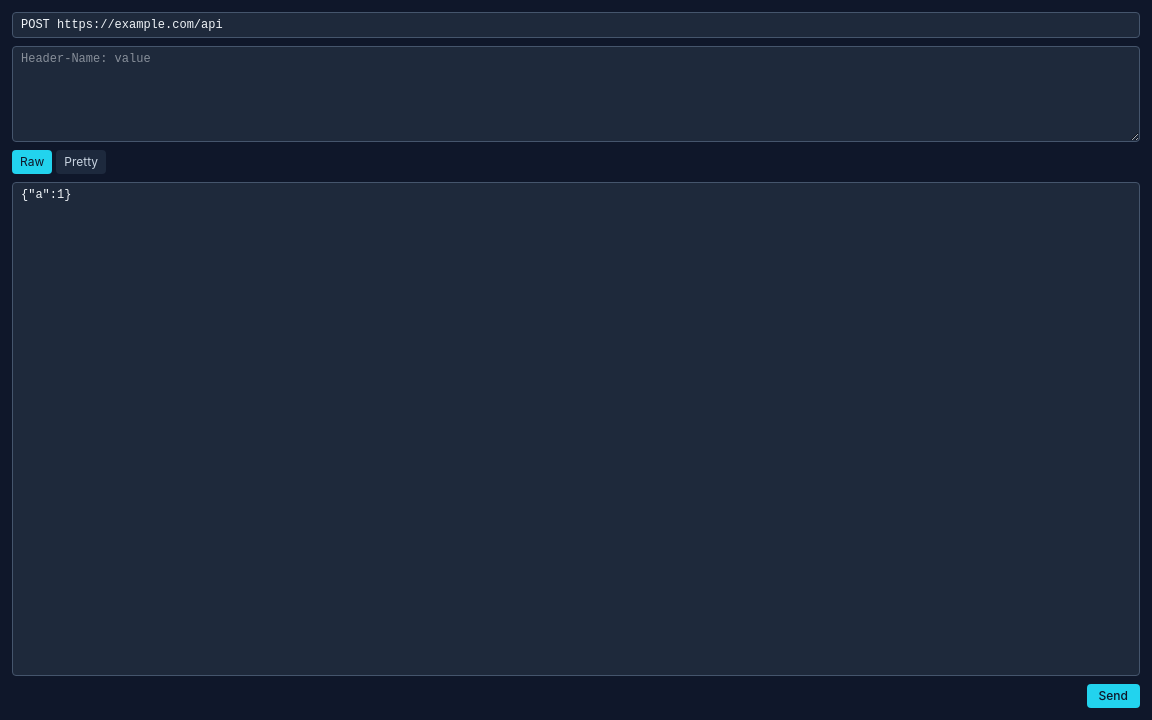
Scenario: ReplayRequestEditor › switching to the Pretty tab with a JSON body renders the JsonTreeView
Click the button with test id "replay-request-editor-tab-pretty": (81, 162) [56,150,106,174]
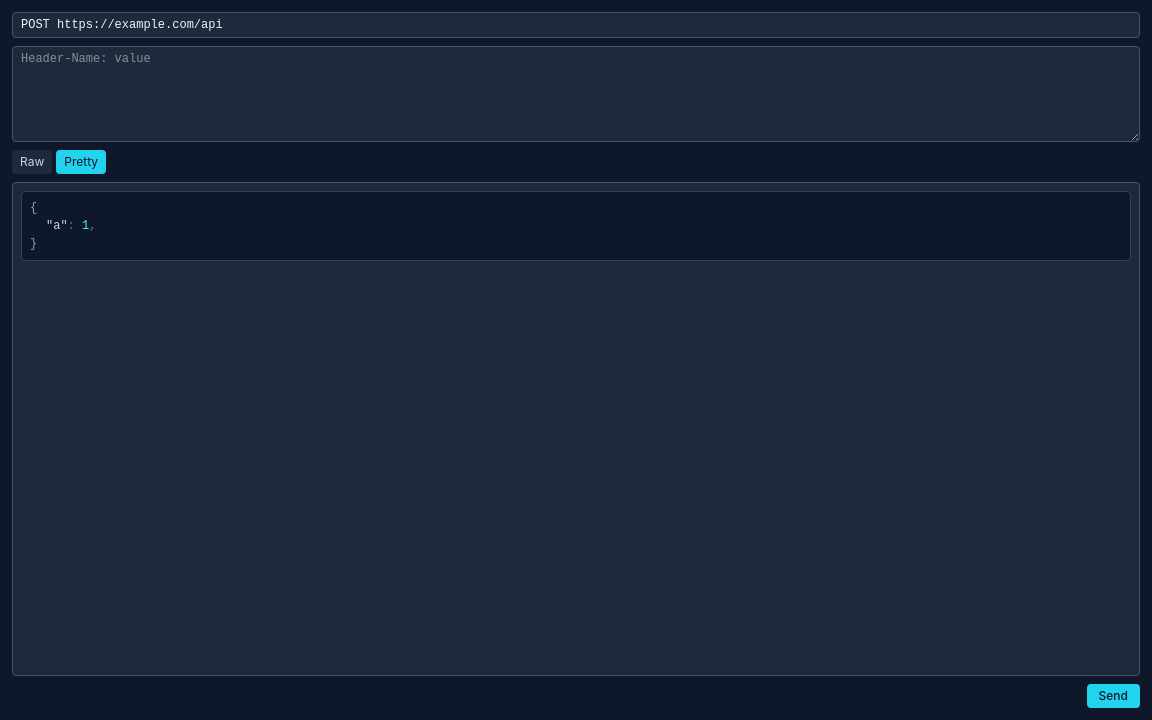
Expected: the element with test id "replay-request-editor-pretty-json" is shown, [21,191,1131,261]
